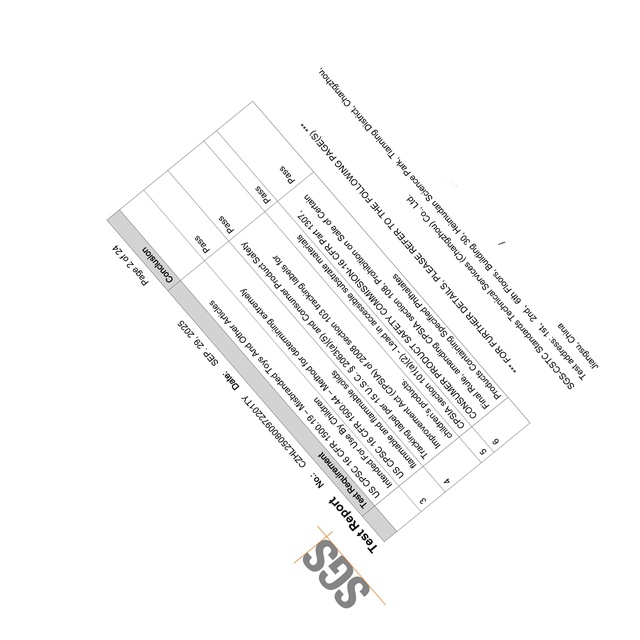sgs: (303, 538, 370, 608)
